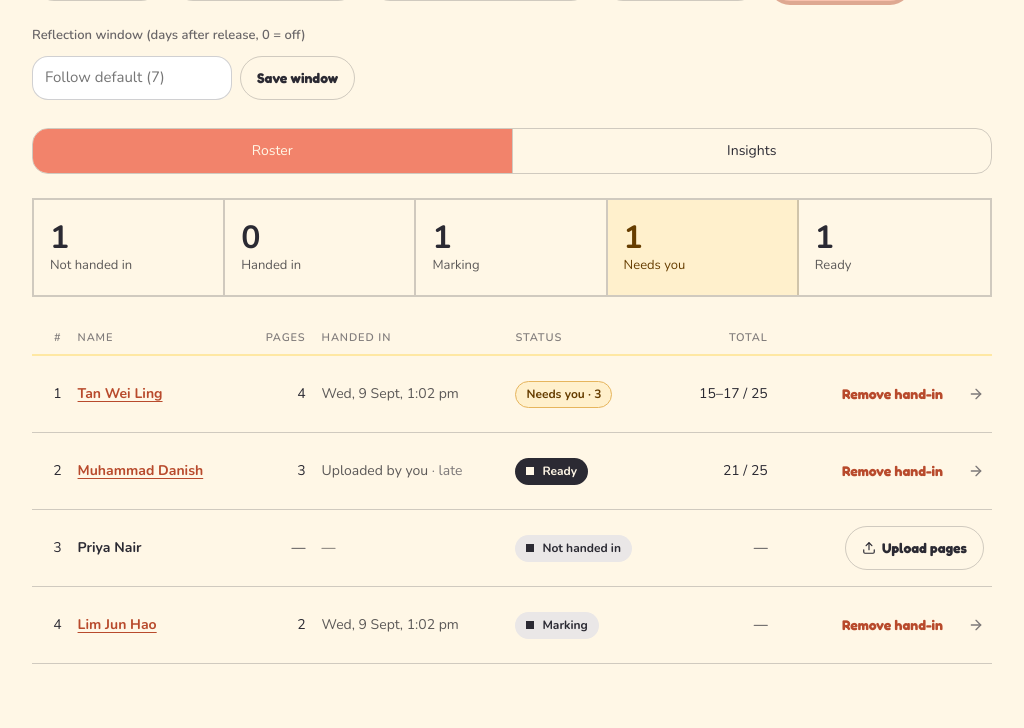
Scenario: ClassAssignmentPage › offers no program files for a Computing quick mark
This screenshot has width=1024, height=728.
(page scrolled)
Click the button "Upload pages" at (914, 548), box [845,526,984,570]
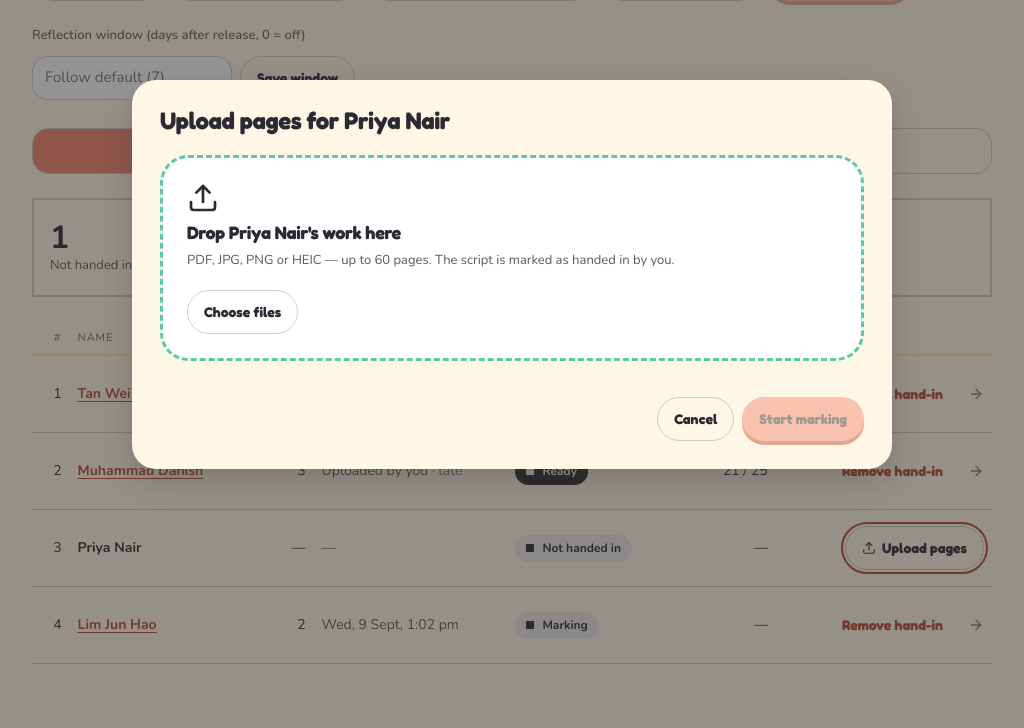
Check: the text "up to 60 pages." is shown, box [187,251,675,269]
